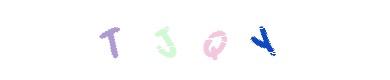J: (154, 0, 234, 80)
Q: (168, 0, 248, 80)
T: (92, 0, 172, 80)
Y: (223, 0, 303, 80)
